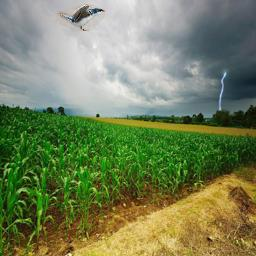Swallow: (54, 4, 105, 31)
